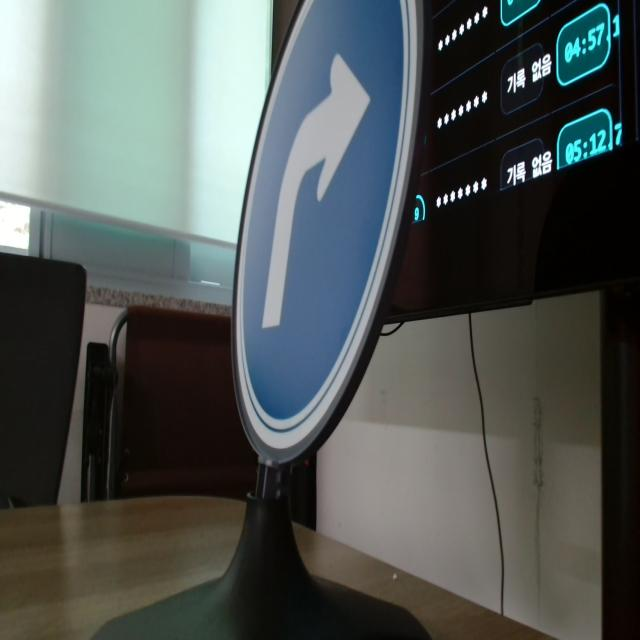right_dierection: (226, 0, 422, 478)
